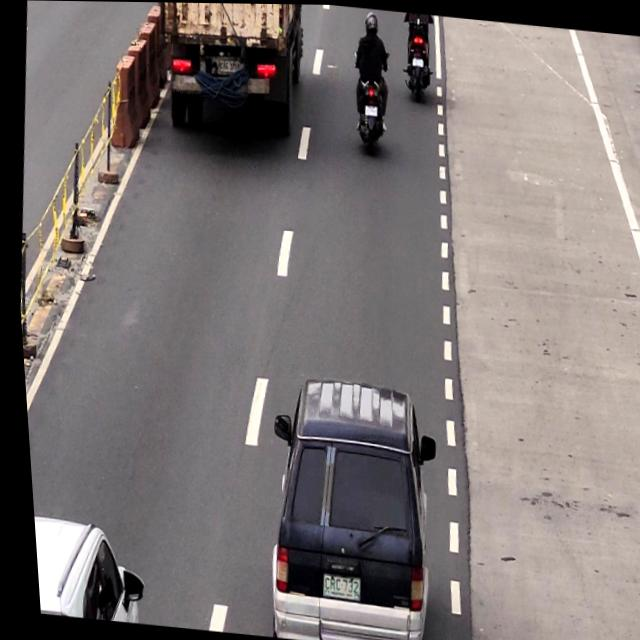Car: (250, 378, 434, 640), (27, 508, 144, 623)
License-Plate: (313, 571, 356, 602), (215, 53, 240, 74)
Motorcycle: (338, 8, 397, 152), (397, 11, 441, 98)
Truck: (150, 2, 313, 137)
